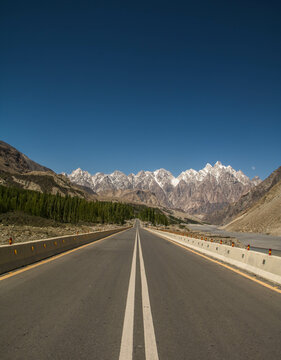straightRoad: (48, 206, 227, 354)
